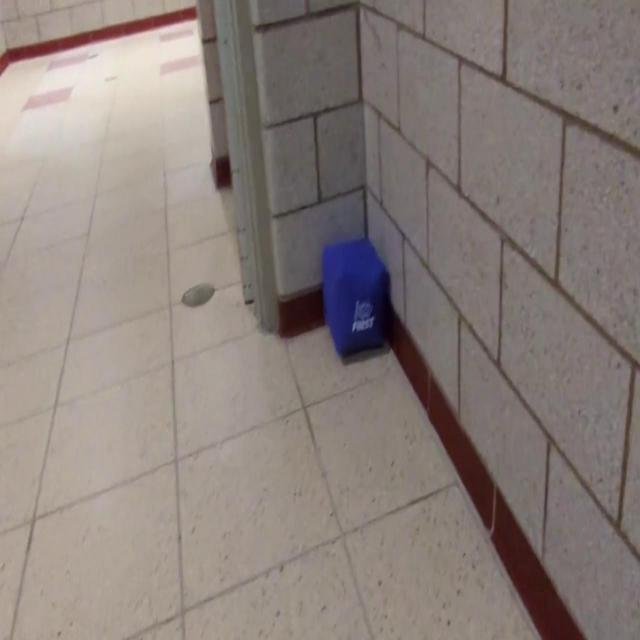frc_cube: (322, 239, 386, 359)
